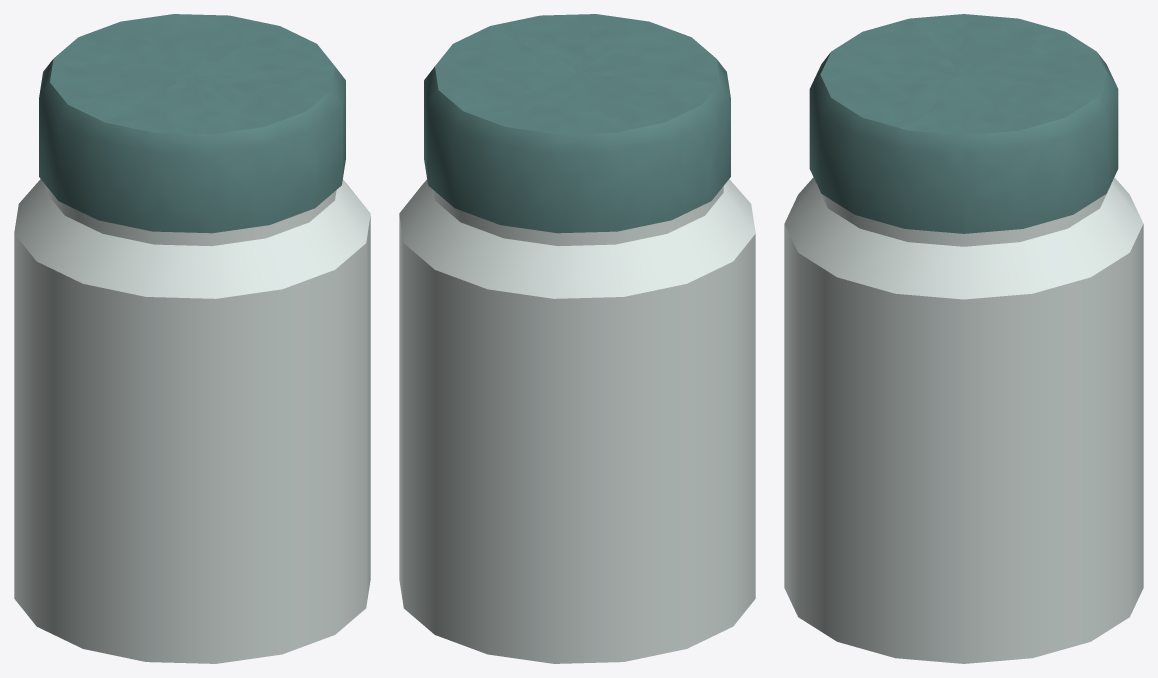
File: SM_Jar_M_Honey.fbx
3 renders of one model, left to right at view 1: azimuth 30°, elevation 25°; view 2: azimuth 150°, elevation 25°; view 3: azimuth 270°, elevation 25°, orthographic.
Parts seen in each view (by area): view 1: SM_Jar_M_Honey; view 2: SM_Jar_M_Honey; view 3: SM_Jar_M_Honey.
Boxes of the visible parts, box(x1,y1,x2,y2) form: SM_Jar_M_Honey: box(14, 14, 370, 663); SM_Jar_M_Honey: box(399, 14, 755, 663); SM_Jar_M_Honey: box(784, 14, 1143, 663).
Size of the model in its own units: 0.09 by 0.142 by 0.09.
3 materials, 3 textured.
